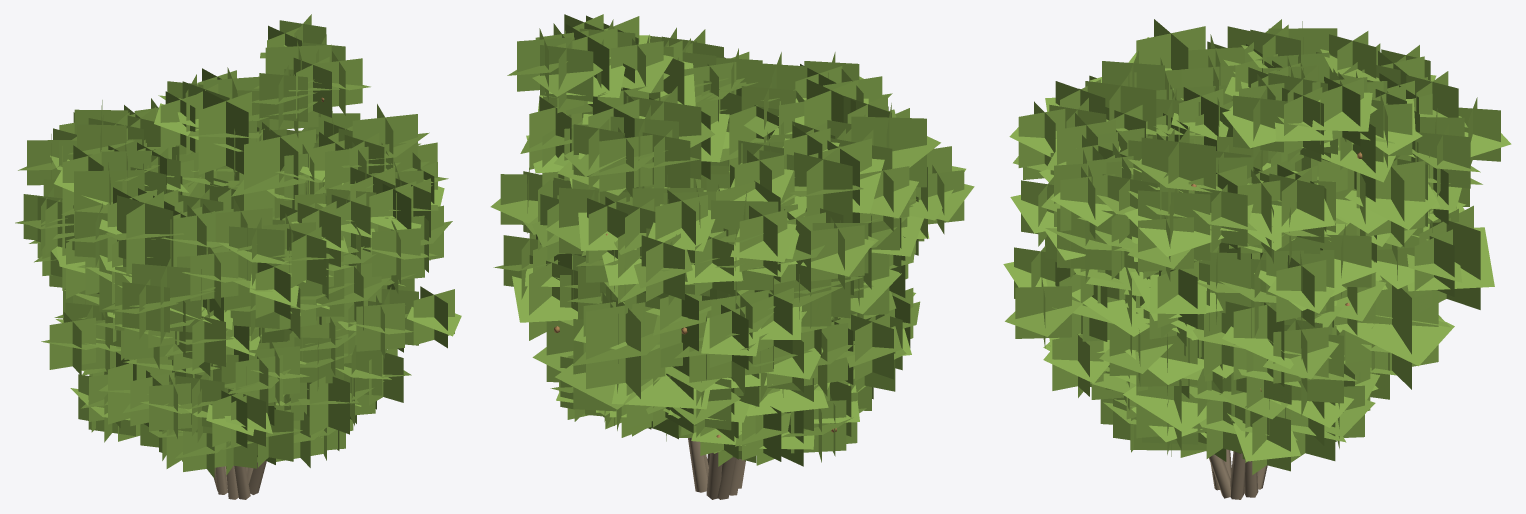
Rendered from noisetier_jeu.glb.
3 renders of one model, left to right at view 1: azimuth 30°, elevation 25°; view 2: azimuth 150°, elevation 25°; view 3: azimuth 270°, elevation 25°, orthographic. The views are drawn at different scales.
Visible parts, largest first — view 1: Noisetier_Leger; view 2: Noisetier_Leger; view 3: Noisetier_Leger.
Part boxes in pixels (x1,y1,x2,y2): Noisetier_Leger: (15,14,461,499); Noisetier_Leger: (490,14,974,499); Noisetier_Leger: (1003,19,1511,499).
Bounding box in the file's own units: 4.4 × 4.77 × 4.71.
